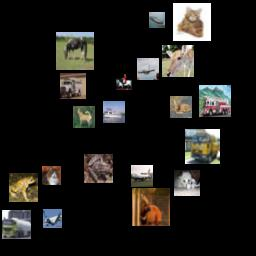airplane: (137, 58, 159, 80), (131, 165, 153, 187), (43, 209, 62, 228)
cat: (173, 3, 211, 41), (42, 166, 61, 185)
deer: (132, 188, 170, 226), (162, 45, 194, 77), (170, 96, 192, 118)
dog: (174, 170, 200, 196), (73, 106, 95, 128)
frog: (9, 173, 38, 202), (84, 154, 113, 183)
ship: (103, 101, 125, 123), (149, 12, 165, 28)
truck: (185, 129, 220, 164), (199, 85, 231, 117), (2, 210, 31, 239), (60, 73, 86, 99)
